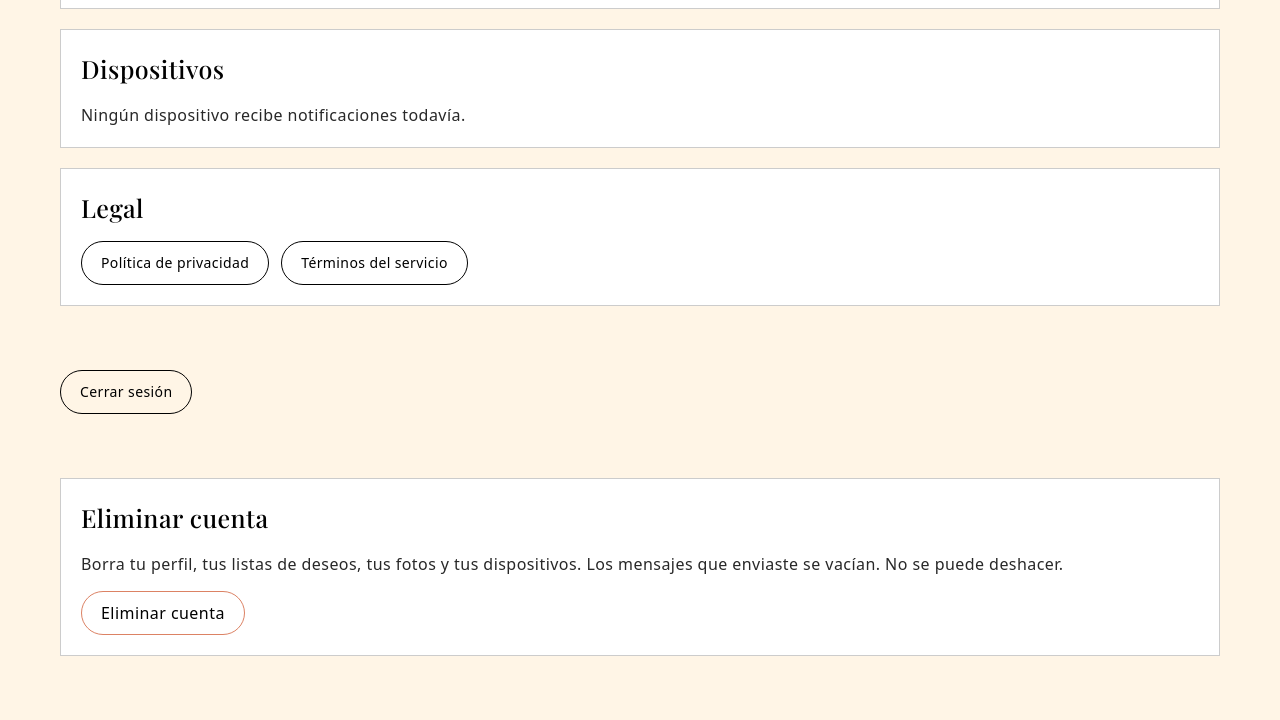
Test: Delete account › blocked: explains why, lists the drawn events and offers no delete action
(page scrolled)
Click the button "Eliminar cuenta". click: [163, 612]
box: [81,590,245,634]
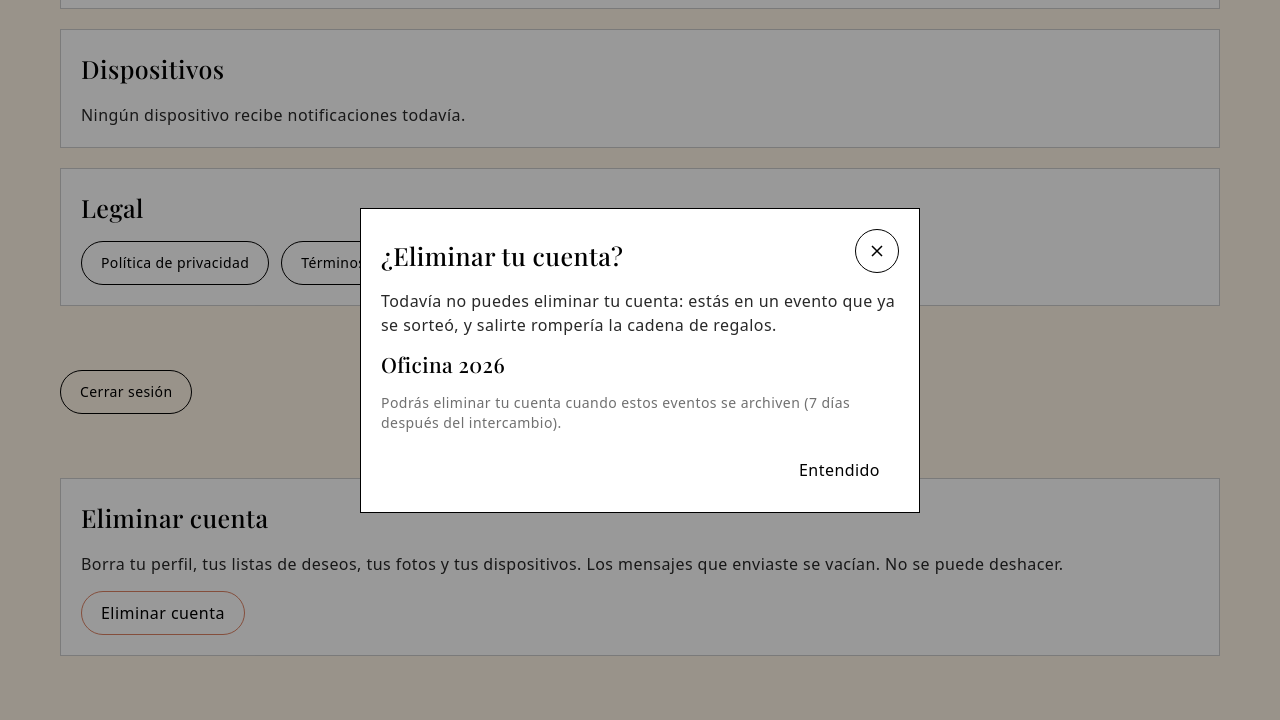
Expected: the list item "Oficina 2026" is shown, [381,350,505,378]
Expected: the dialog "¿Eliminar tu cuenta?" shows "Todavía no puedes eliminar tu cuenta", [381,290,895,336]
Expected: the button "Entendido" is shown, [780,448,899,492]
